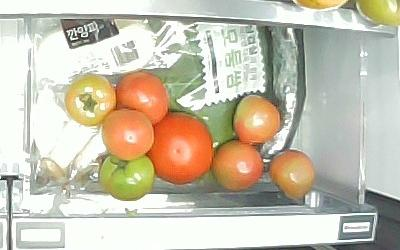tomato: (149, 113, 213, 185), (64, 73, 115, 127), (268, 148, 318, 203), (232, 94, 284, 146), (213, 140, 264, 192), (118, 72, 170, 122), (100, 154, 154, 202), (103, 109, 153, 159)
